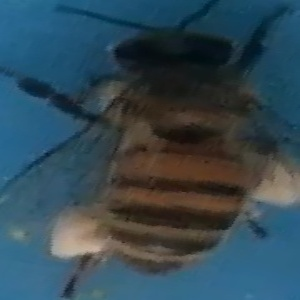bee: (25, 2, 297, 288)
